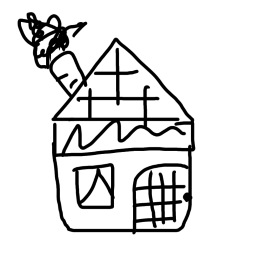door: (125, 161, 197, 237)
open_window: (69, 160, 125, 214)
roof: (36, 37, 200, 129)
smoking_chimney: (12, 10, 91, 96)
wall: (46, 141, 201, 239)
